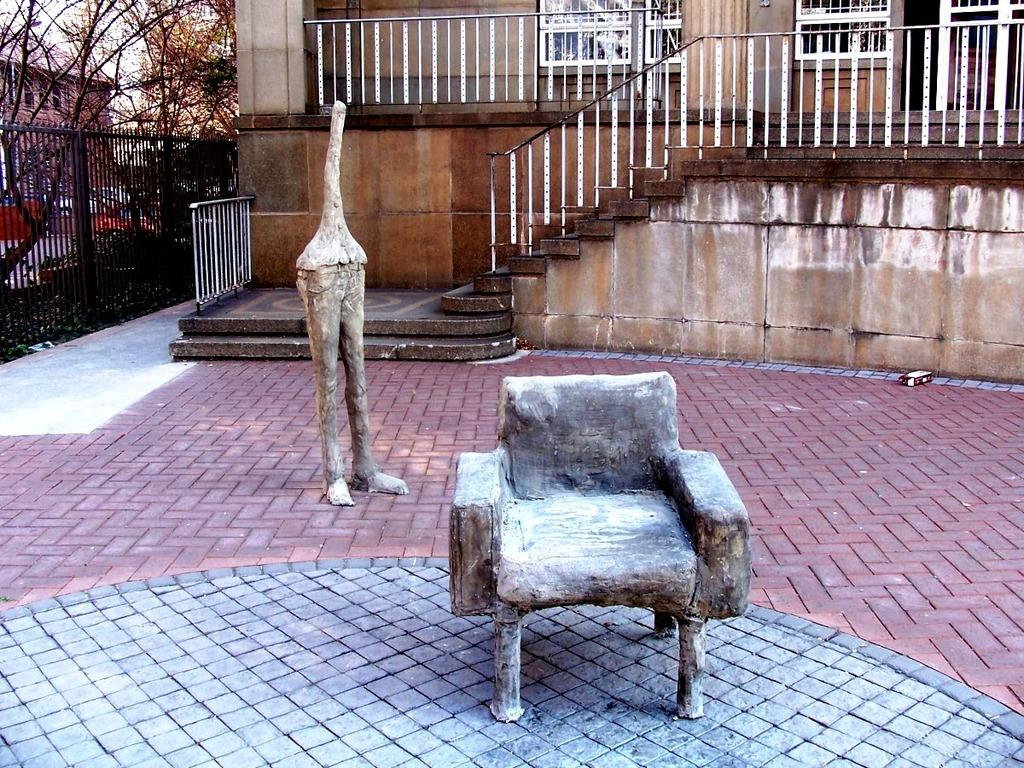Chair: (449, 370, 750, 723)
